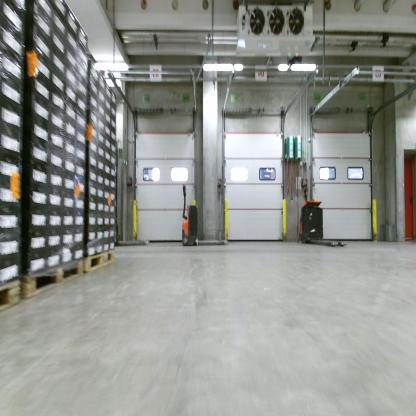pallet: (24, 255, 85, 303), (83, 245, 115, 278), (1, 275, 24, 311)
pallet_truck: (298, 176, 354, 251), (178, 179, 229, 245)
